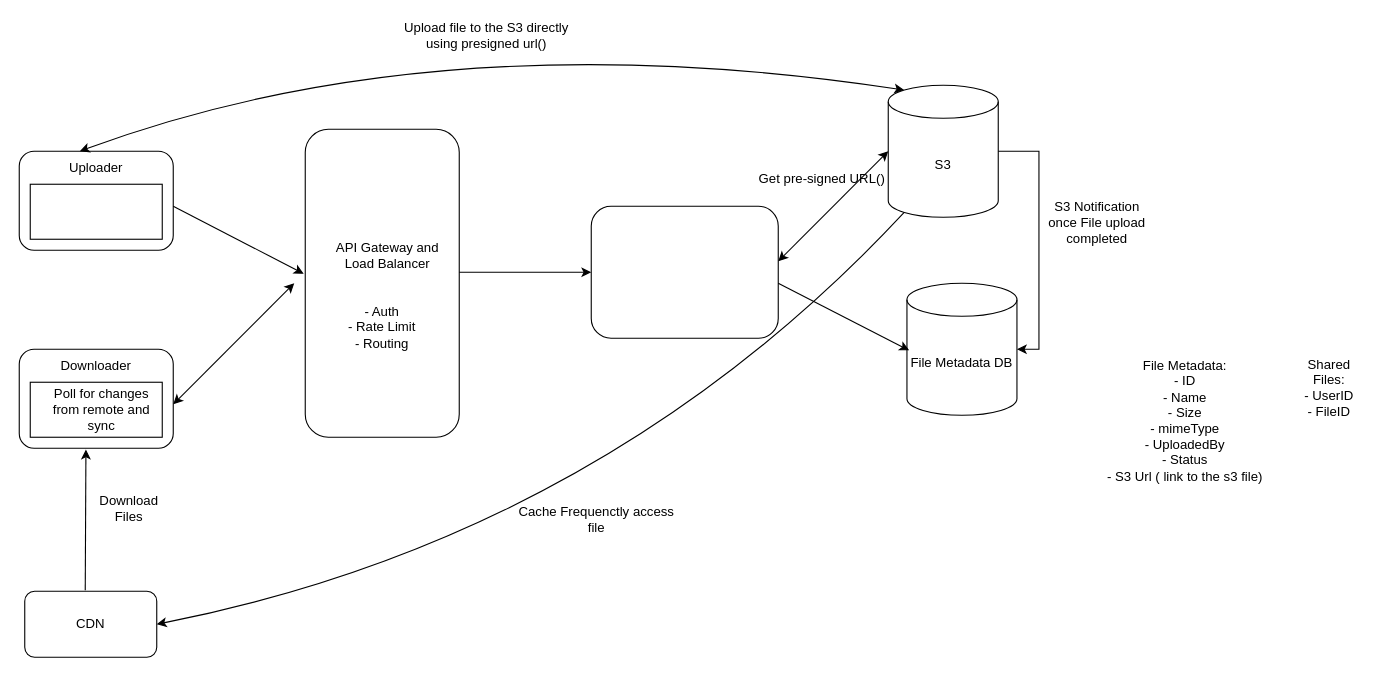
This 1382x677 diagram has some shape labels left out. The box of each missing label's shape, as (x1, y1, x2, y2) in pixels:
File Service: (590, 205, 778, 338)
Watch for changes and upload to remote: (29, 183, 162, 239)
